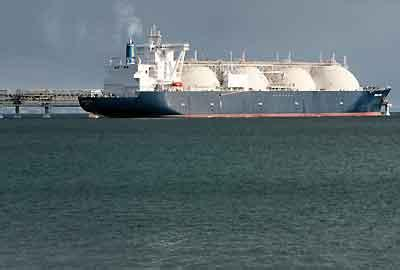Cargoship: (75, 39, 394, 120)
